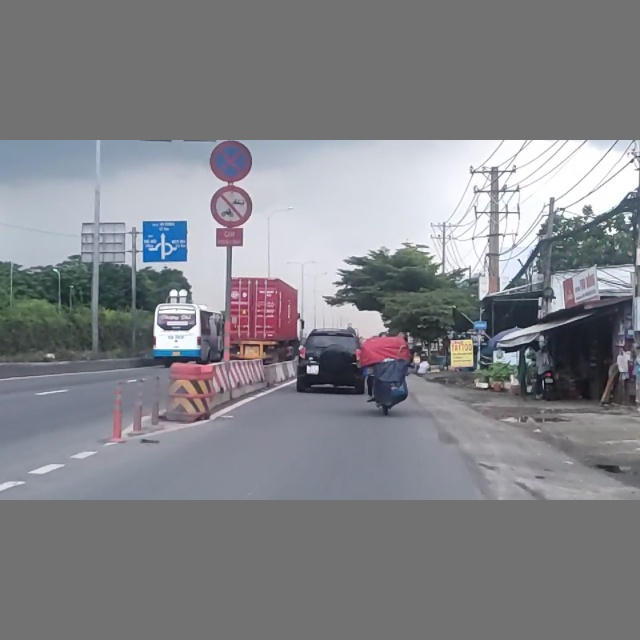P.111: (209, 184, 254, 227)
P.130: (209, 142, 254, 182)
